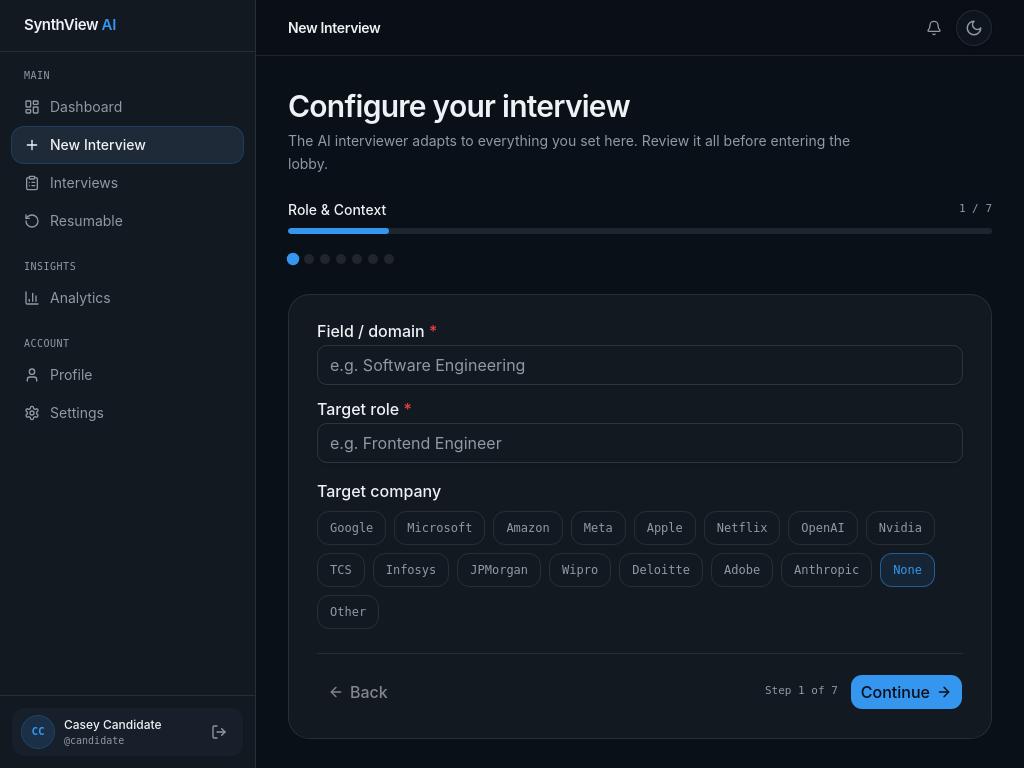
Test case: New Interview wizard saved defaults › still starts from wizard defaults when nothing is saved
Type "Frontend" into the field labelled "Field / domain *" at (640,364), box [317, 344, 963, 384]
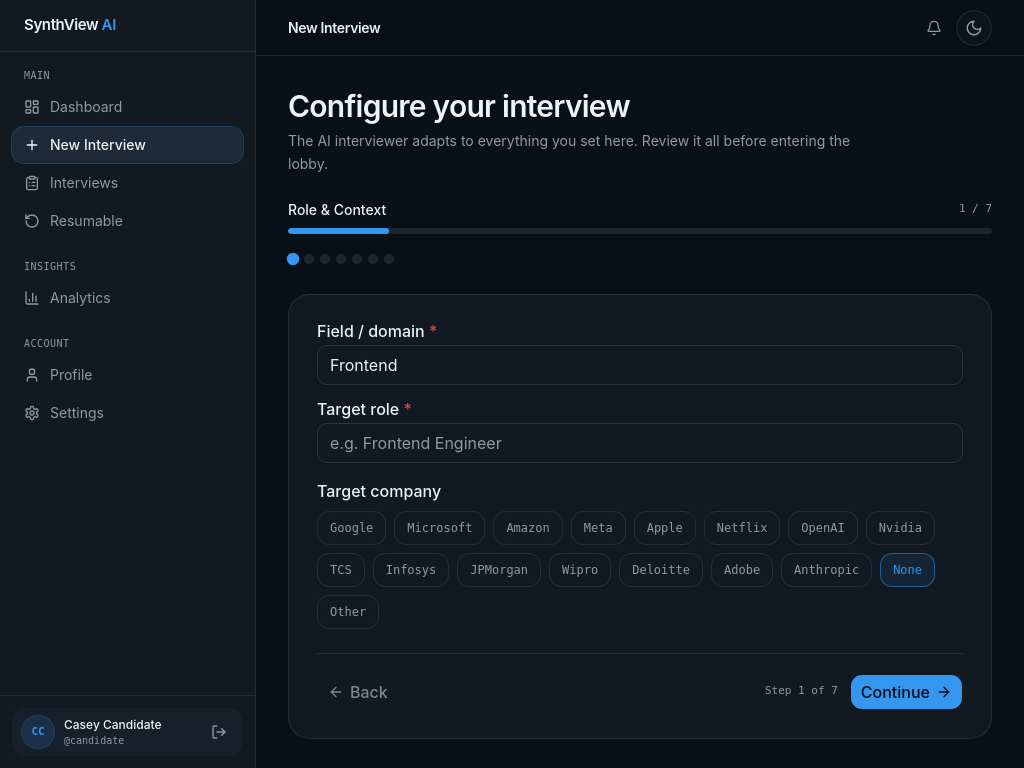
Type "Frontend Engineer" into the field labelled "Target role *" at (640,442), box [317, 422, 963, 462]
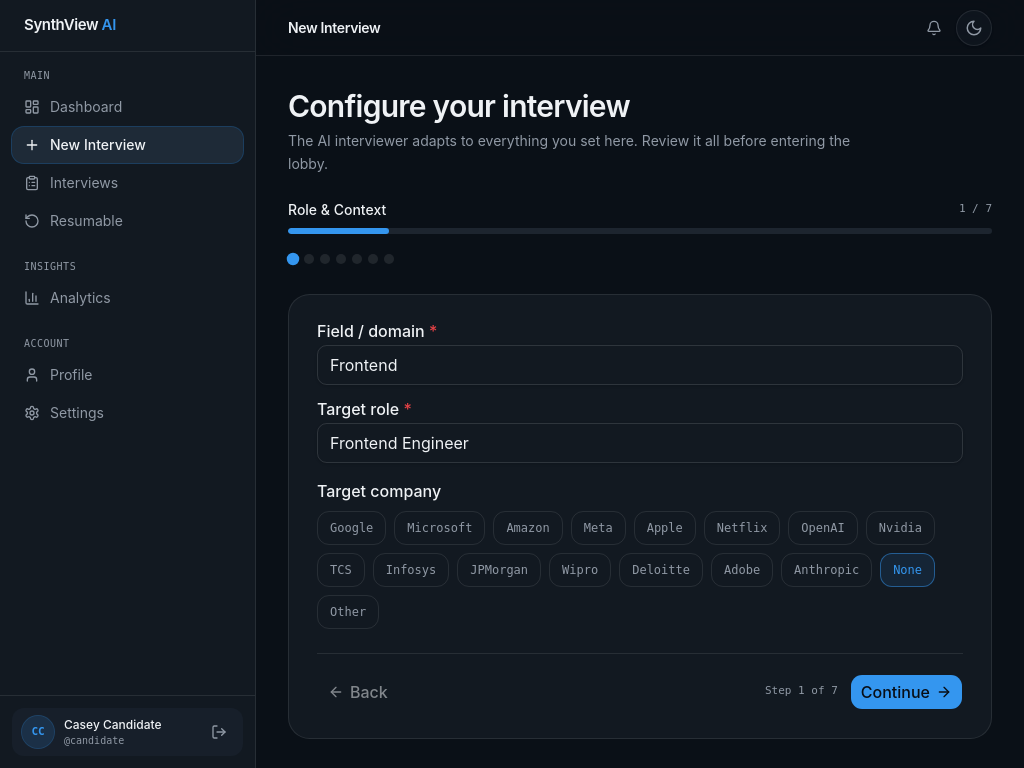
Click the button "Continue" at (906,692), box [850, 674, 963, 710]
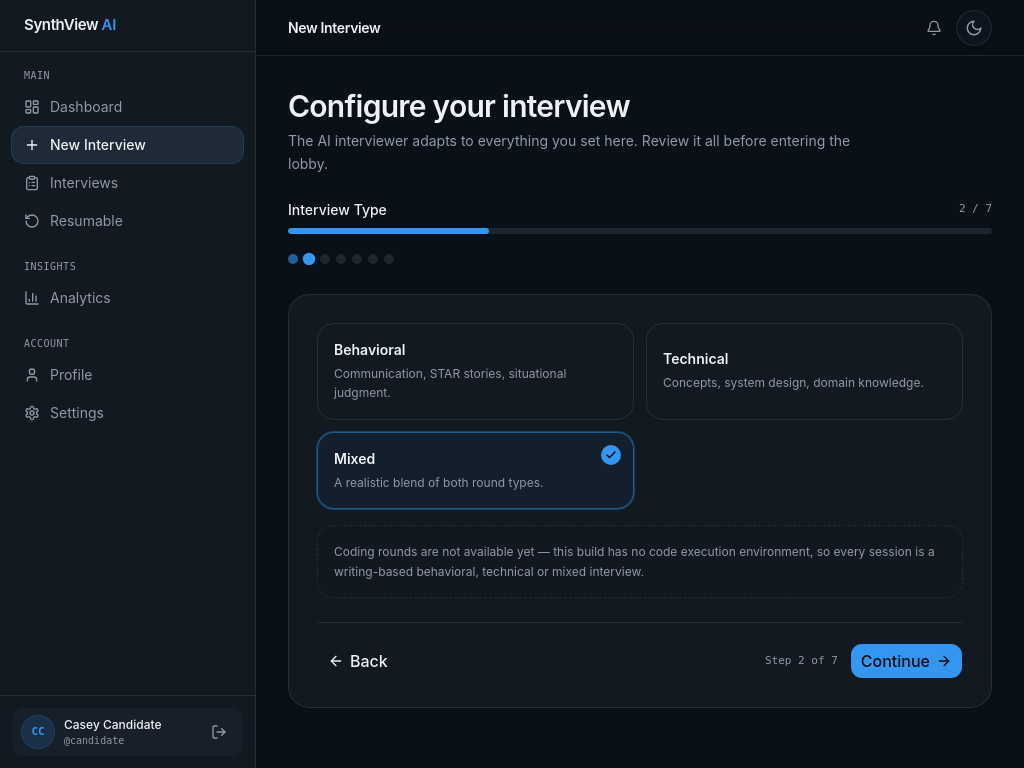
Click the button "Continue" at (906,661), box [850, 643, 963, 679]
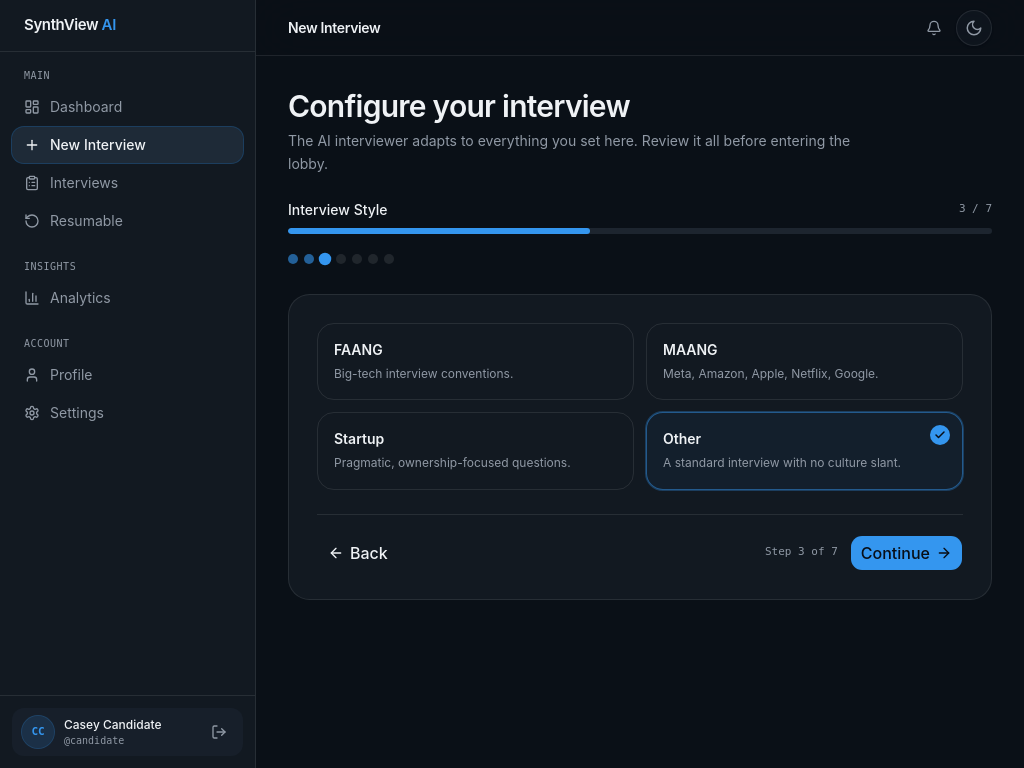
Click the button "Continue" at (906,552), box [850, 534, 963, 570]
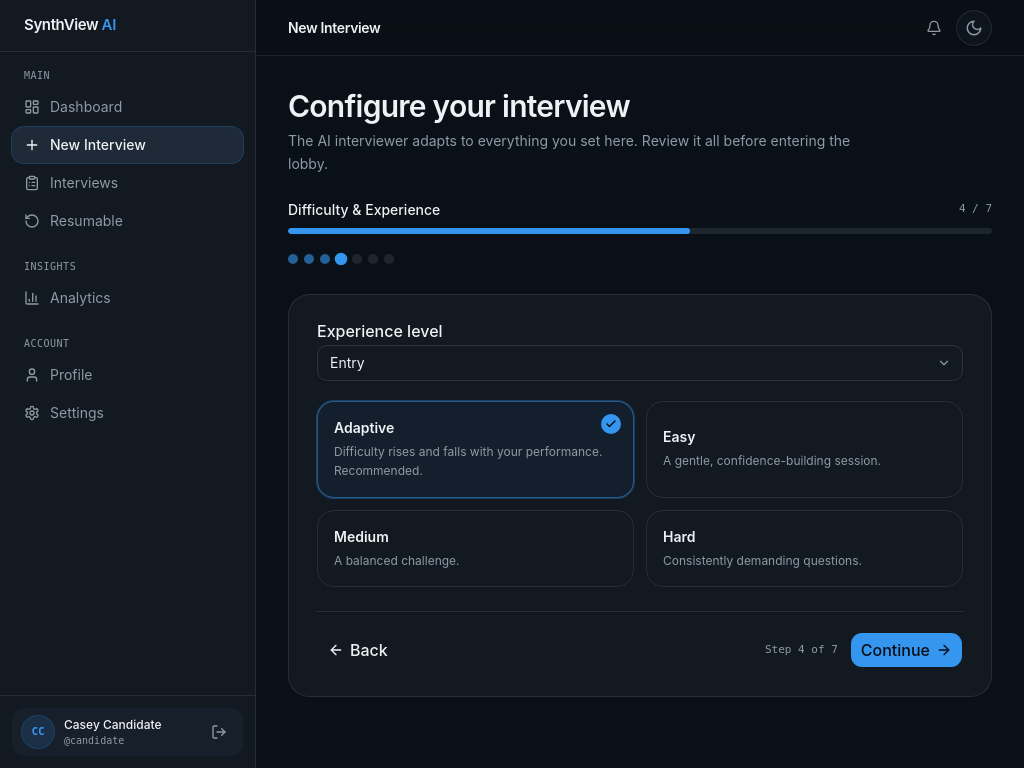
Result: the dropdown labelled "Experience level" shows "Entry" at [317, 344, 963, 380]
